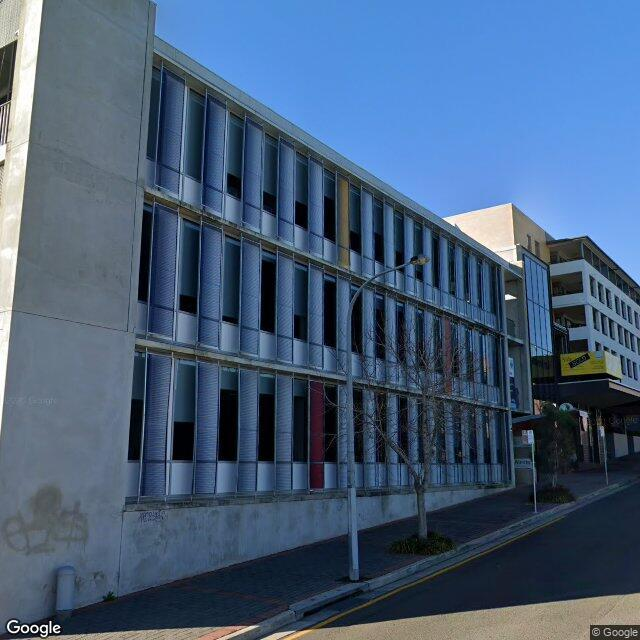steel-pole: (348, 308, 359, 582)
streetlight: (349, 254, 430, 308)
